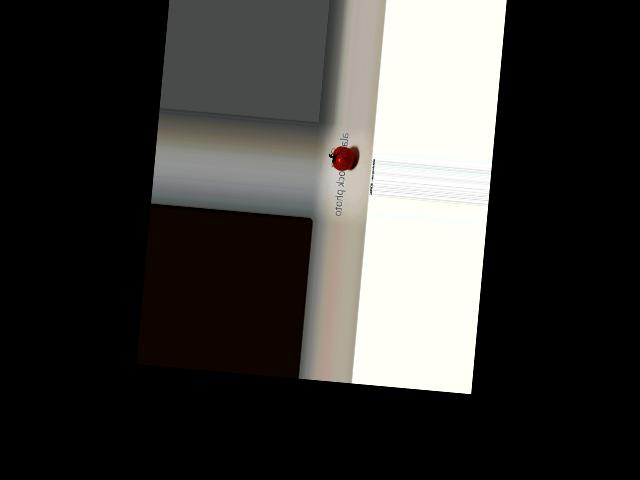tomato: (331, 145, 355, 172)
